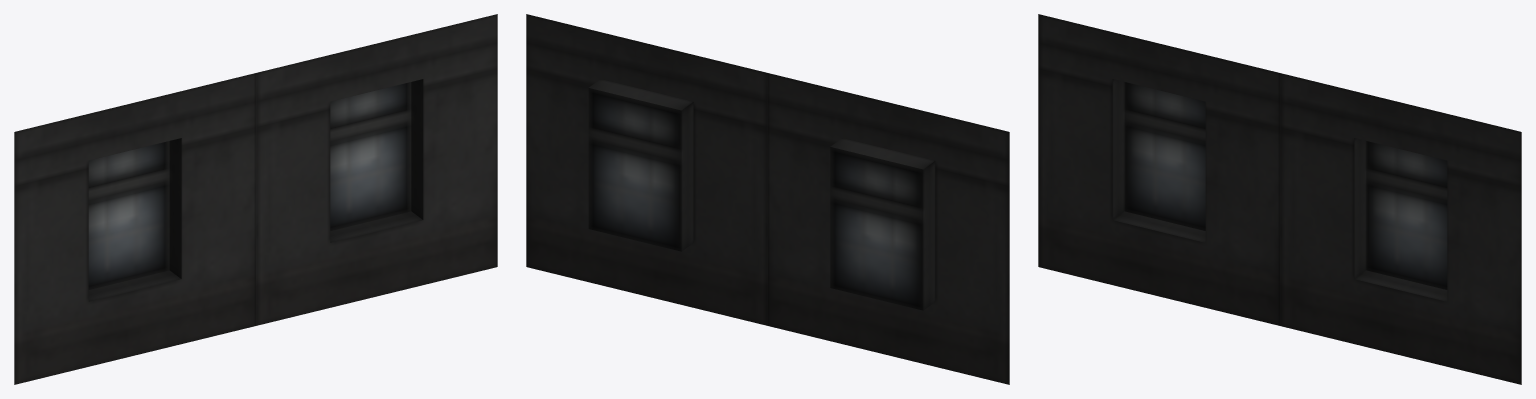
The model's file is B9_WindowA2x.FBX.
The picture shows the model from 3 angles, left to right: view 1: azimuth 30°, elevation 25°; view 2: azimuth 150°, elevation 25°; view 3: azimuth 330°, elevation 25°; orthographic projection.
Visible parts, largest first — view 1: B9_WindowA2x; view 2: B9_WindowA2x; view 3: B9_WindowA2x.
Part boxes in pixels (x1,y1,x2,y2): B9_WindowA2x: (14,14,497,384); B9_WindowA2x: (526,14,1009,384); B9_WindowA2x: (1038,14,1521,384).
Bounding box in the file's own units: 8 × 4 × 0.3451.
